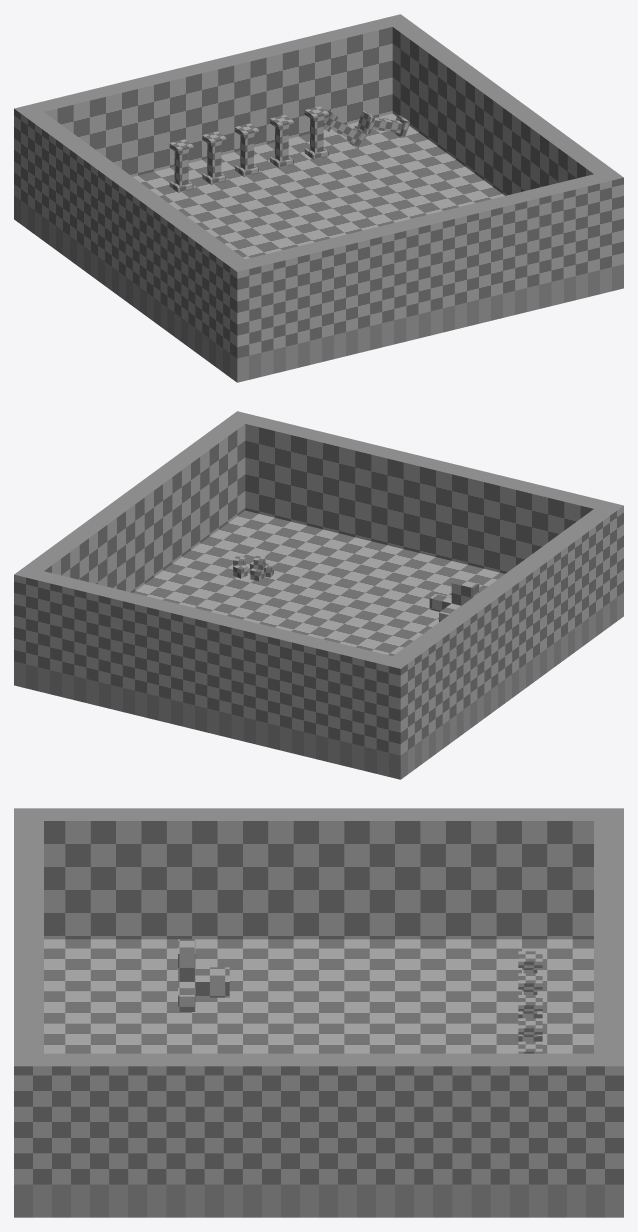
The model's file is environment.fbx.
The picture shows the model from 3 angles, top to bottom: view 1: azimuth 30°, elevation 25°; view 2: azimuth 150°, elevation 25°; view 3: azimuth 270°, elevation 25°; orthographic projection. The views are drawn at different scales.
Parts seen in each view (by area): view 1: Plane; view 2: Plane; view 3: Plane.
Part boxes in pixels (x1,y1,x2,y2): Plane: [14, 14, 623, 382]; Plane: [14, 411, 623, 779]; Plane: [14, 808, 623, 1217].
Bounding box in the file's own units: 17740 × 4858 × 17740.
1 material, 1 textured.
